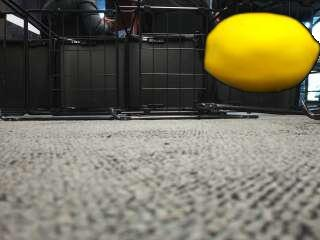lemon: (205, 13, 319, 92)
